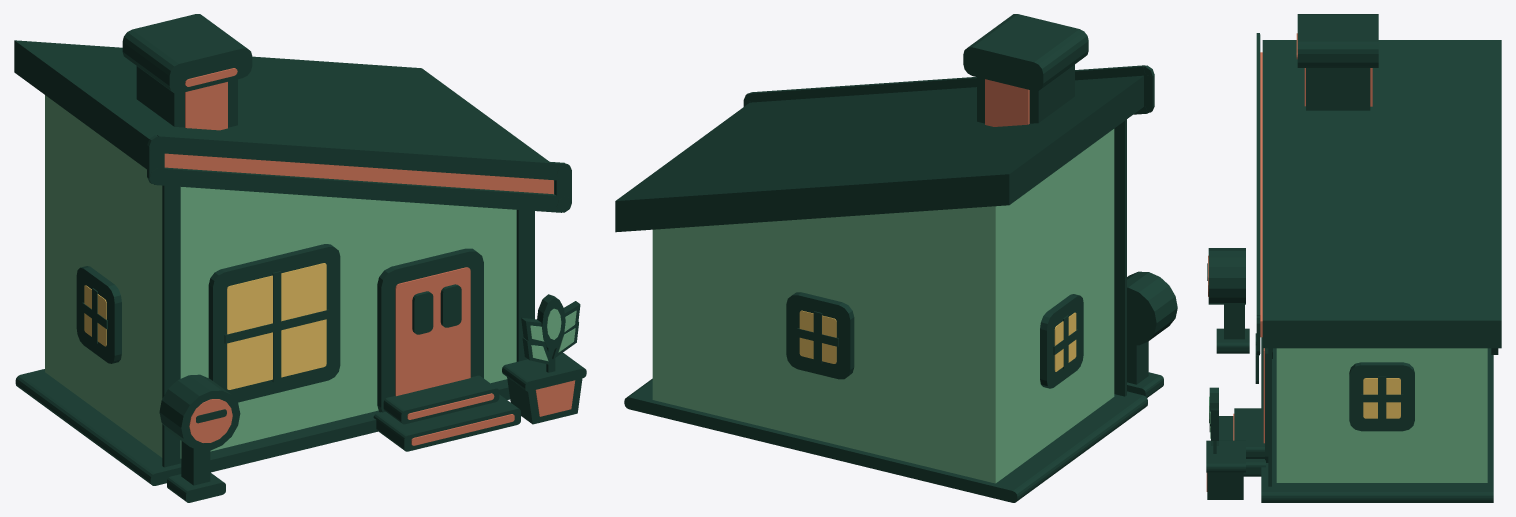
The picture shows the model from 3 angles, left to right: view 1: azimuth 30°, elevation 25°; view 2: azimuth 150°, elevation 25°; view 3: azimuth 270°, elevation 25°; orthographic projection. The views are drawn at different scales.
Parts seen in each view (by area): view 1: Rent Free house; view 2: Rent Free house; view 3: Rent Free house.
Part boxes in pixels (box(x1,y1,x2,y2)): Rent Free house: box(14, 14, 586, 502); Rent Free house: box(615, 14, 1177, 502); Rent Free house: box(1206, 14, 1501, 502).
Size of the model in its own units: 1.02 by 0.9143 by 0.72.
